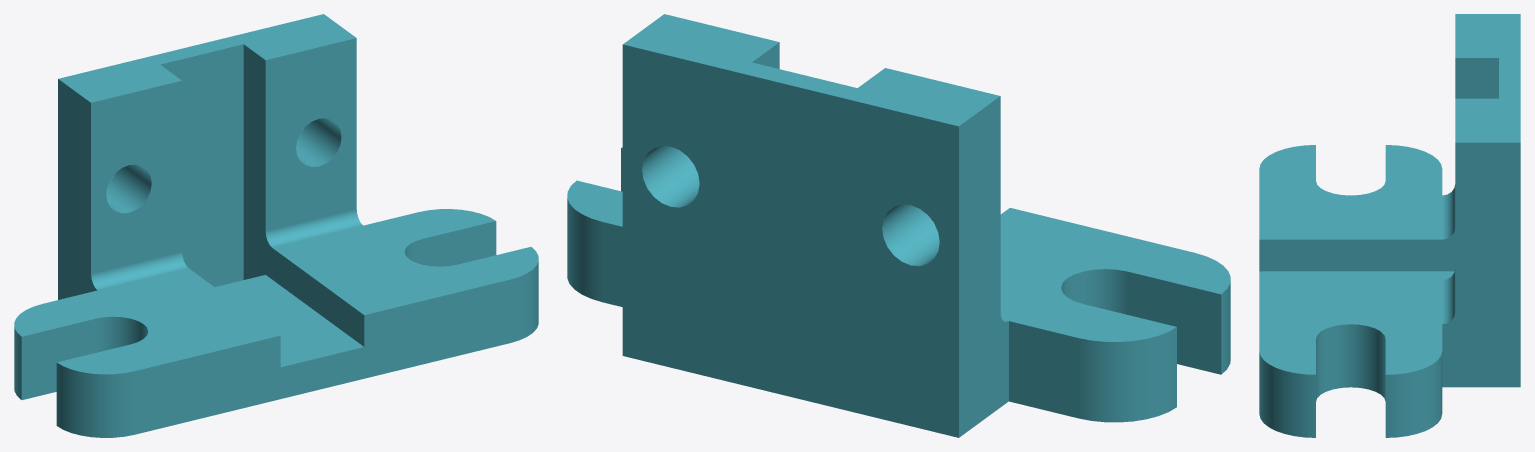
3 renders of one model, left to right at view 1: azimuth 30°, elevation 25°; view 2: azimuth 150°, elevation 25°; view 3: azimuth 270°, elevation 25°, orthographic. The views are drawn at different scales.
Parts seen in each view (by area): view 1: Solid1; view 2: Solid1; view 3: Solid1.
Boxes of the visible parts, x1=… form: Solid1: x1=14, y1=14, x2=538, y2=437; Solid1: x1=567, y1=14, x2=1230, y2=437; Solid1: x1=1259, y1=14, x2=1520, y2=437.
Size of the model in its own units: 0.125 by 0.062 by 0.06.
